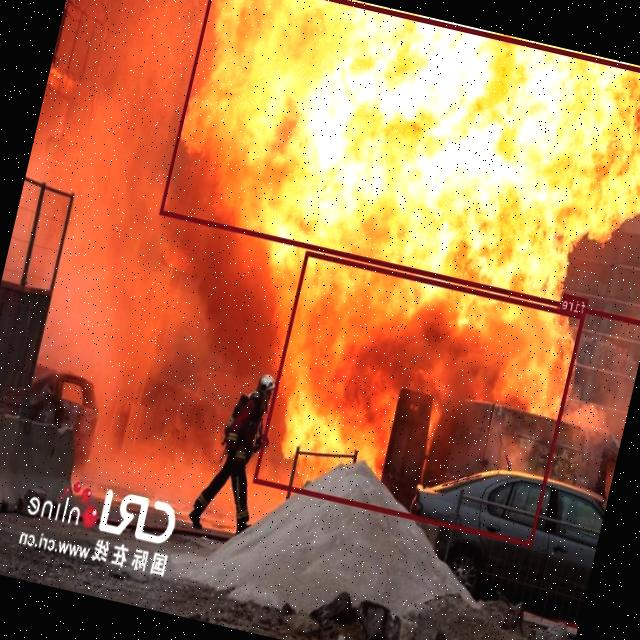fire: (159, 0, 640, 326), (253, 251, 585, 546)
